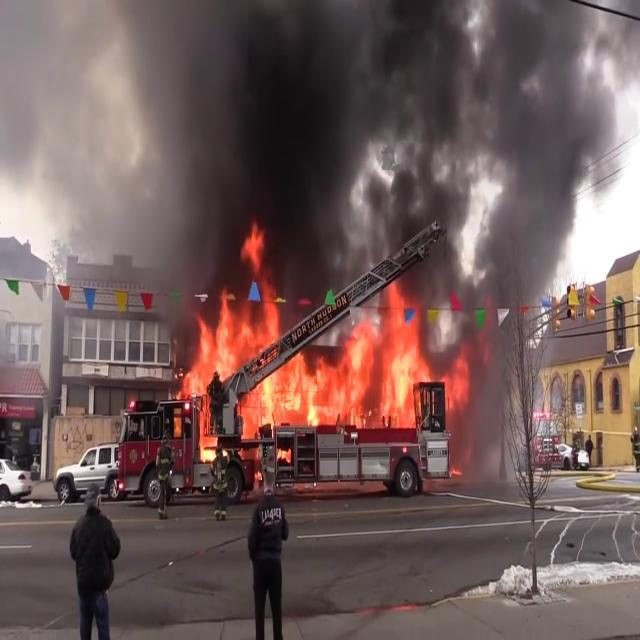Fire: (176, 221, 470, 463)
